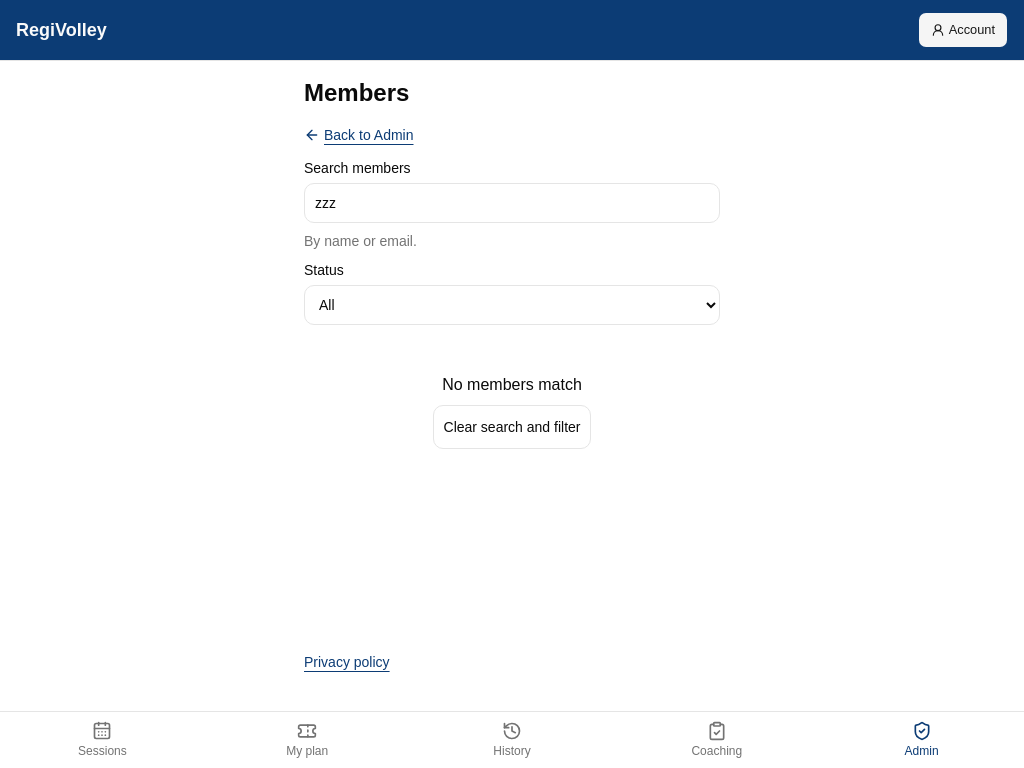
Scenario: searching and filtering › says nothing matches, and offers to clear the search
Expected: the text "No members match" is shown, top-left (442, 373), bottom-right (582, 397)
Click the button "Clear search and filter" at (512, 427), box top-left (432, 405), bottom-right (592, 449)
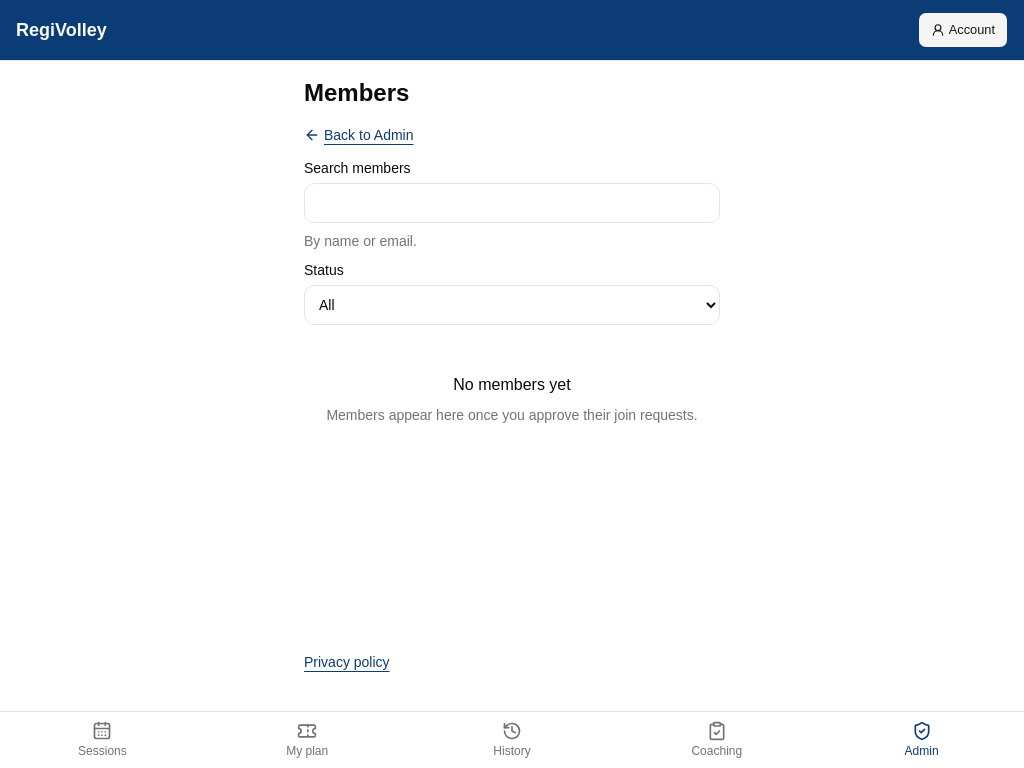
Expected: the search field labelled "Search members" is empty, top-left (304, 183), bottom-right (720, 223)
